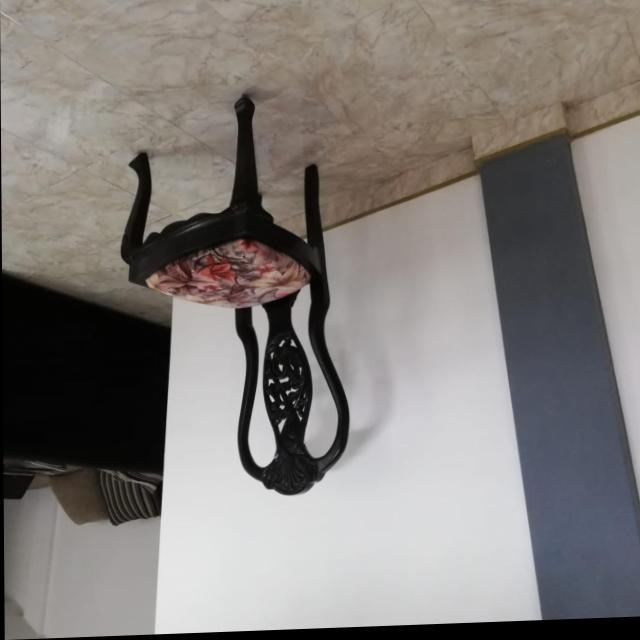Chair: (120, 92, 348, 504)
